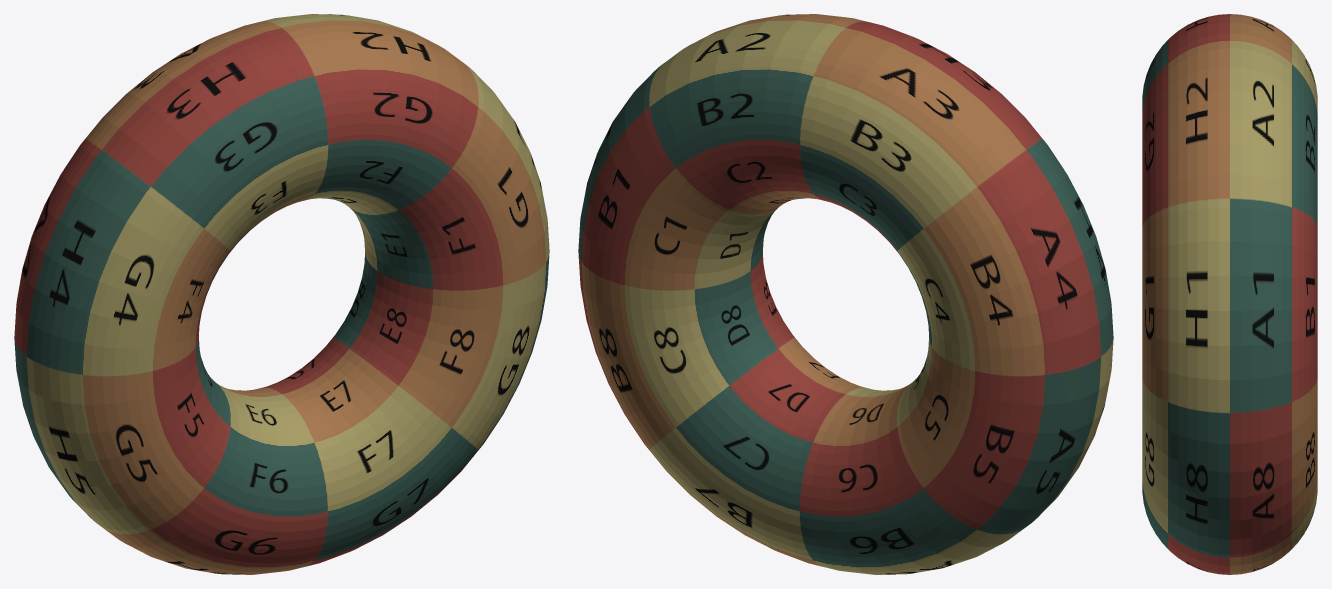
Rendered from texture_torus_R3_r13.glb.
3 views of the same model, side by side, from view 1: azimuth 30°, elevation 25°; view 2: azimuth 150°, elevation 25°; view 3: azimuth 270°, elevation 25° (orthographic). The views are drawn at different scales.
Visible parts, largest first — view 1: world; view 2: world; view 3: world.
Boxes of the visible parts, box(x1,y1,x2,y2) form: world: box(14, 14, 549, 574); world: box(578, 14, 1113, 574); world: box(1142, 14, 1317, 574).
Size of the model in its own units: 17.47 by 17.43 by 5.46.
1 material, 1 textured.
